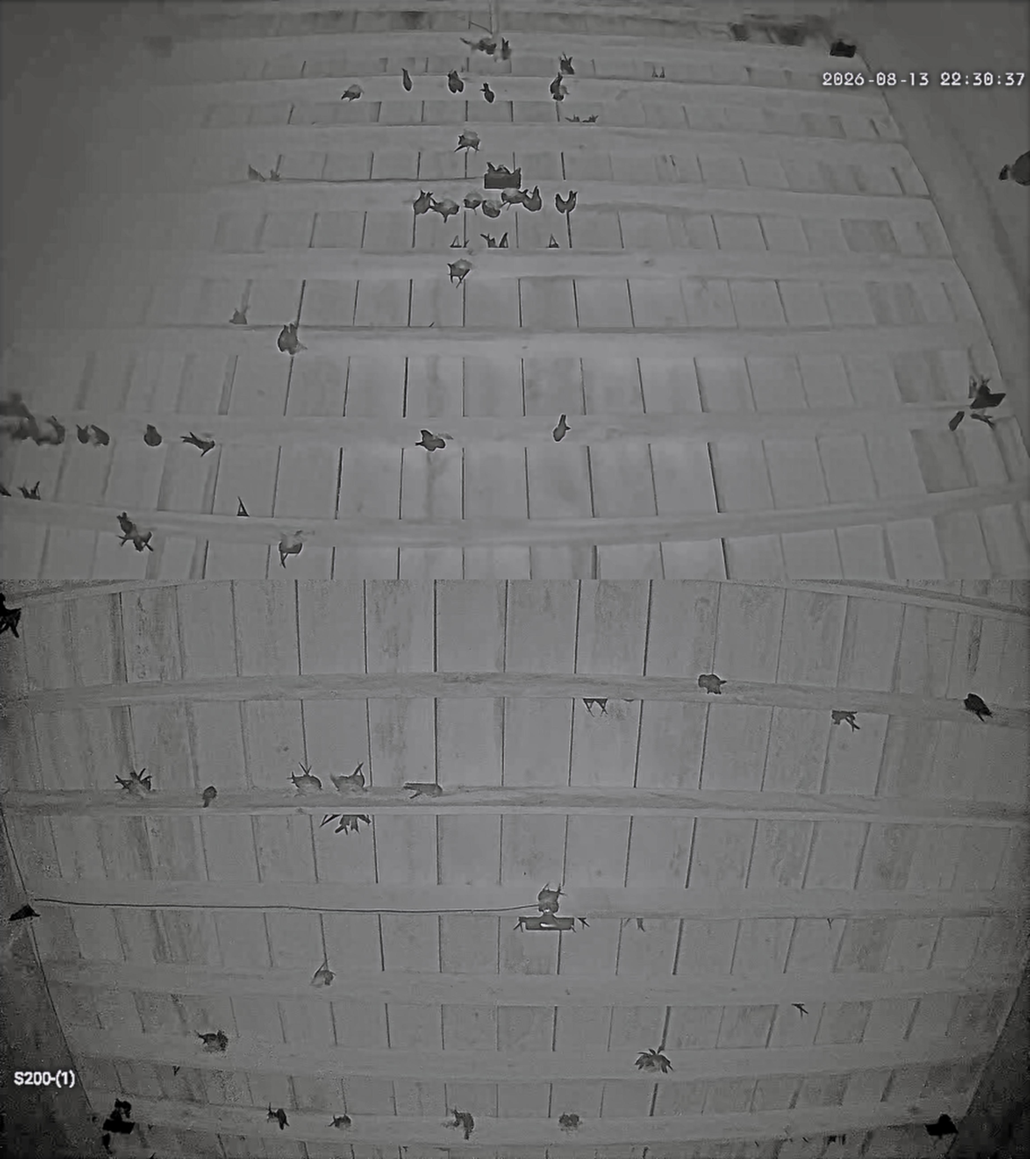swallow bird: (117, 513, 153, 552), (102, 1100, 135, 1134), (999, 151, 1030, 186), (11, 413, 44, 445), (330, 762, 365, 791), (277, 322, 306, 357), (116, 768, 152, 796), (290, 763, 322, 794), (0, 593, 22, 638), (181, 431, 216, 457), (636, 1049, 673, 1073), (278, 531, 302, 568), (37, 415, 66, 445), (0, 391, 32, 418), (447, 1109, 474, 1140), (963, 693, 992, 721), (538, 882, 562, 914), (142, 35, 174, 59), (430, 198, 460, 222), (460, 37, 497, 56), (311, 958, 335, 987), (334, 814, 370, 833), (448, 258, 473, 285), (416, 429, 445, 452), (404, 782, 443, 799), (198, 1030, 228, 1052), (776, 24, 806, 46), (831, 710, 859, 731), (699, 673, 726, 694), (454, 130, 480, 151), (8, 904, 40, 921), (522, 186, 542, 212), (117, 511, 136, 538), (829, 39, 856, 58), (555, 191, 577, 214), (552, 414, 570, 442), (549, 73, 567, 101), (268, 1104, 288, 1129), (413, 191, 432, 216), (501, 188, 527, 206), (464, 190, 485, 212), (969, 377, 990, 399), (583, 698, 608, 716), (90, 424, 110, 446), (19, 480, 41, 500), (513, 916, 542, 931), (971, 411, 994, 429), (144, 424, 162, 447), (481, 199, 502, 218), (447, 70, 464, 93), (487, 162, 513, 177), (559, 1113, 580, 1131), (341, 83, 362, 101), (730, 23, 749, 42), (948, 410, 965, 431), (329, 1114, 351, 1129), (202, 786, 217, 808), (230, 309, 248, 326), (560, 54, 574, 75), (482, 82, 495, 103), (248, 164, 265, 180), (320, 814, 340, 827), (77, 424, 90, 444), (500, 38, 511, 61), (237, 496, 249, 517), (402, 68, 412, 91), (480, 235, 497, 248), (101, 1132, 111, 1154), (571, 917, 589, 929), (268, 164, 280, 182), (791, 1003, 807, 1016), (827, 1134, 846, 1144), (498, 231, 509, 248), (547, 234, 560, 248), (449, 235, 462, 248), (635, 917, 646, 932), (0, 482, 11, 497), (652, 66, 664, 79), (267, 1103, 276, 1120), (565, 114, 582, 123), (584, 113, 598, 123), (172, 1065, 180, 1076), (826, 917, 833, 929)
